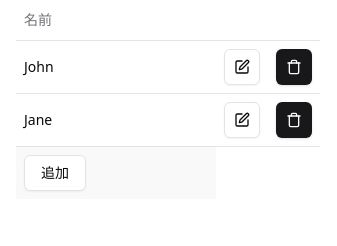
it: ClientPurchasersTable › 同名のメンバーは追加できず、エラーメッセージが表示される
Step 1. Click the button "追加" → (55,172), box 24,154 -> 86,190
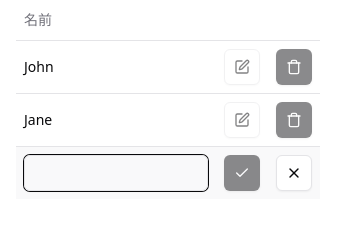
Step 2. Type "John" into the field → (116,172), box 24,154 -> 208,190
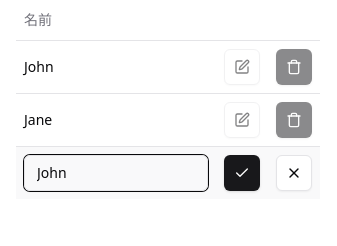
Step 3. Click the button named "Save" → (242,172), box 224,154 -> 260,190
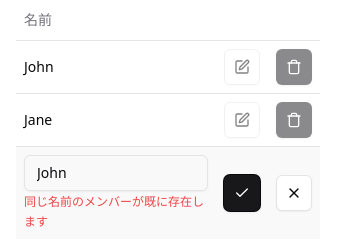
Check: the text "同じ名前のメンバーが既に存在します" is shown, box 24,192 -> 204,230
